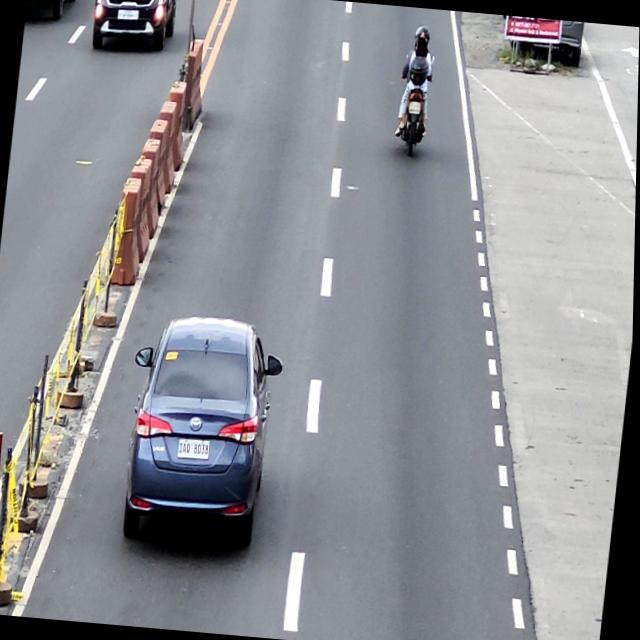Car: (118, 310, 288, 552), (89, 0, 179, 54)
License-Plate: (178, 439, 211, 461), (117, 8, 138, 20), (408, 100, 422, 114)
Motorcycle: (394, 52, 434, 159)
